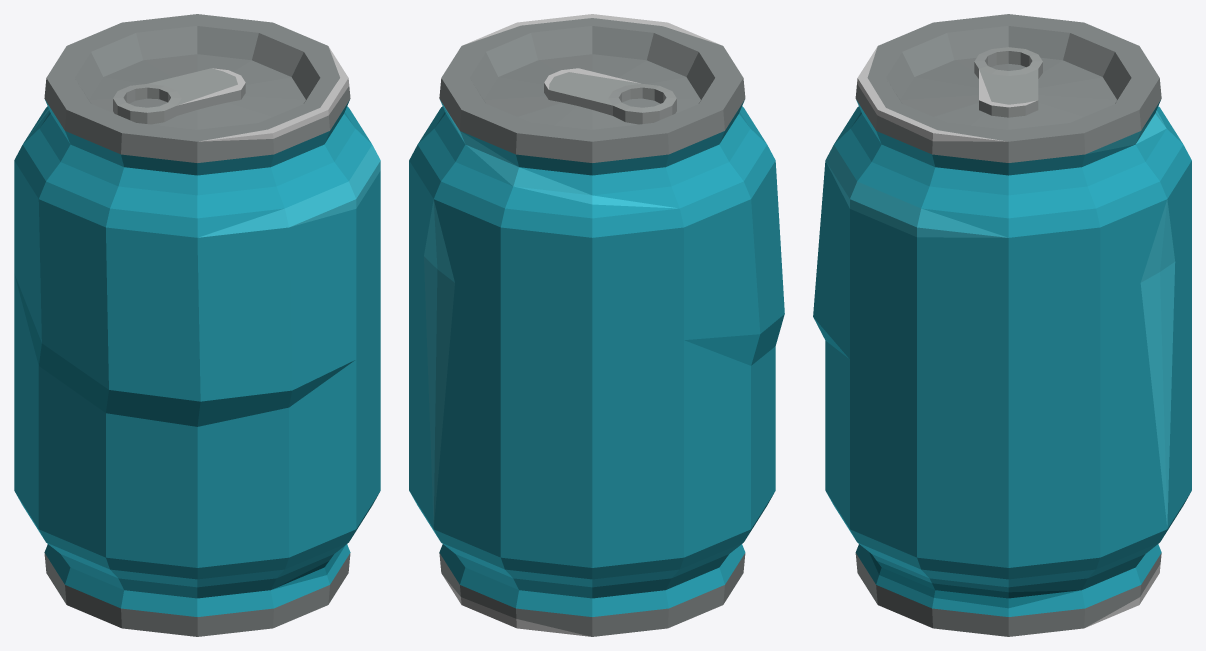
Rendered from mesh_can_blue.fbx.
3 renders of one model, left to right at view 1: azimuth 30°, elevation 25°; view 2: azimuth 150°, elevation 25°; view 3: azimuth 270°, elevation 25°, orthographic.
Visible parts, largest first — view 1: mesh_can_blue; view 2: mesh_can_blue; view 3: mesh_can_blue.
Part boxes in pixels (x1,y1,x2,y2): mesh_can_blue: (14,14,380,636); mesh_can_blue: (409,14,784,636); mesh_can_blue: (813,14,1191,636).
Bounding box in the file's own units: 0.1977 × 0.292 × 0.2025.
